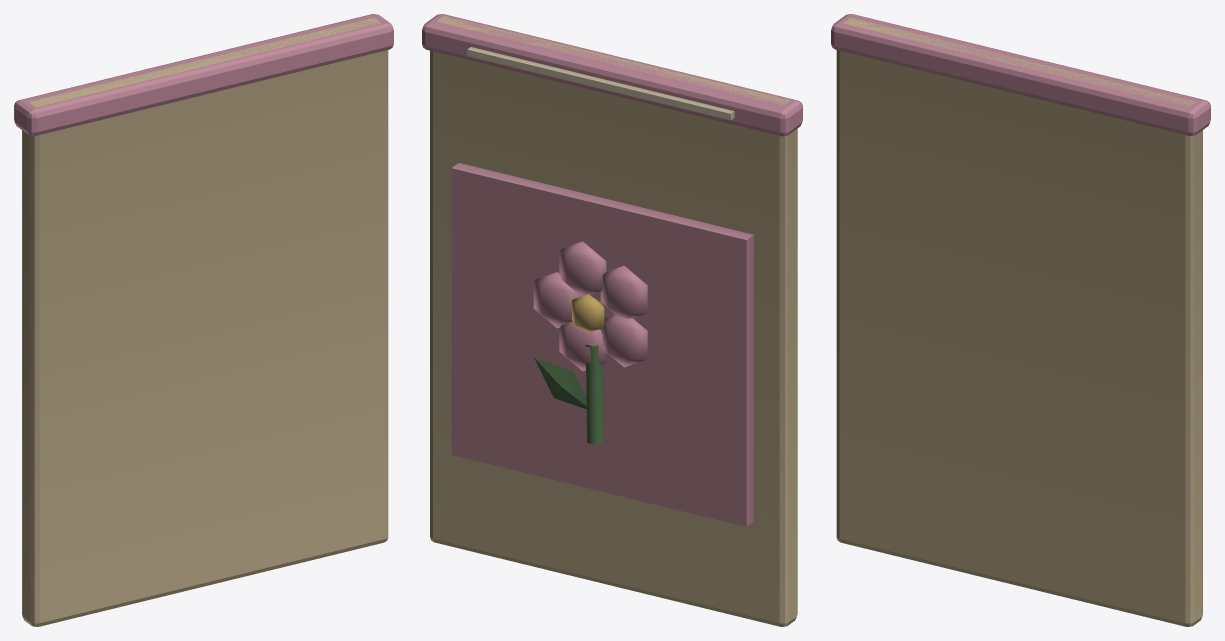
Rendered from seed_flower_pink.glb.
3 renders of one model, left to right at view 1: azimuth 30°, elevation 25°; view 2: azimuth 150°, elevation 25°; view 3: azimuth 330°, elevation 25°, orthographic.
Size of the model in its own units: 0.174 by 0.236 by 0.0318.
